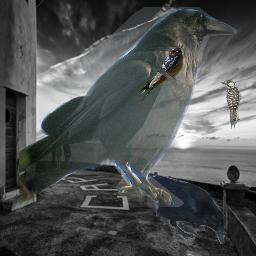Crow: (19, 7, 238, 207), (122, 173, 225, 244)
Swallow: (138, 47, 183, 104)
Woodpecker: (220, 80, 244, 130)
